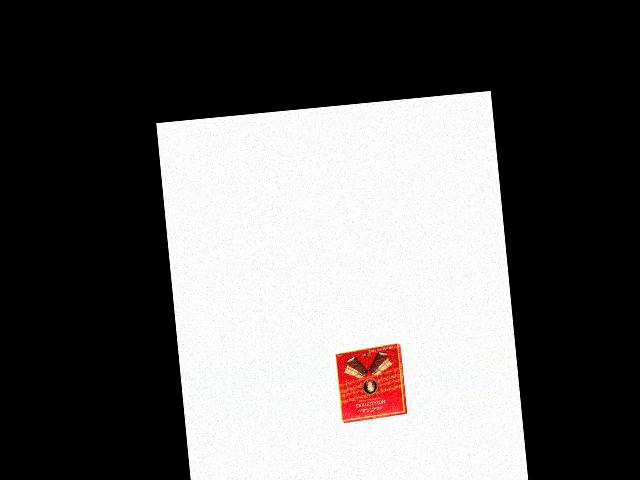chocolate: (332, 340, 407, 422)
